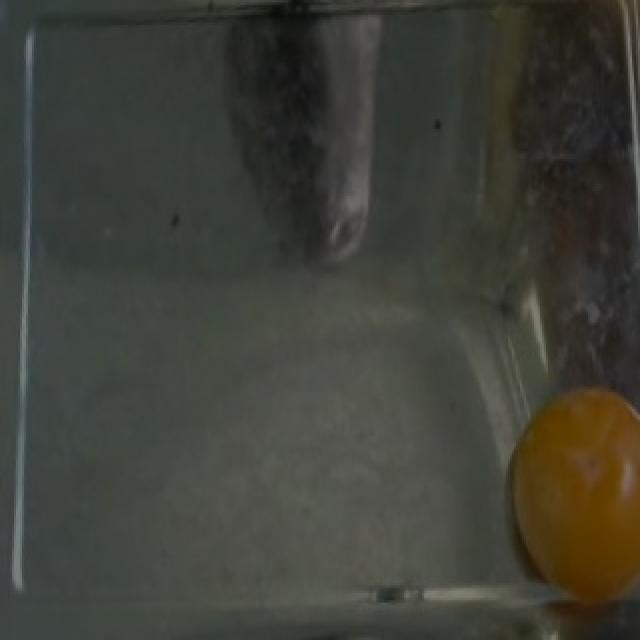Fruit: (484, 364, 640, 640)
